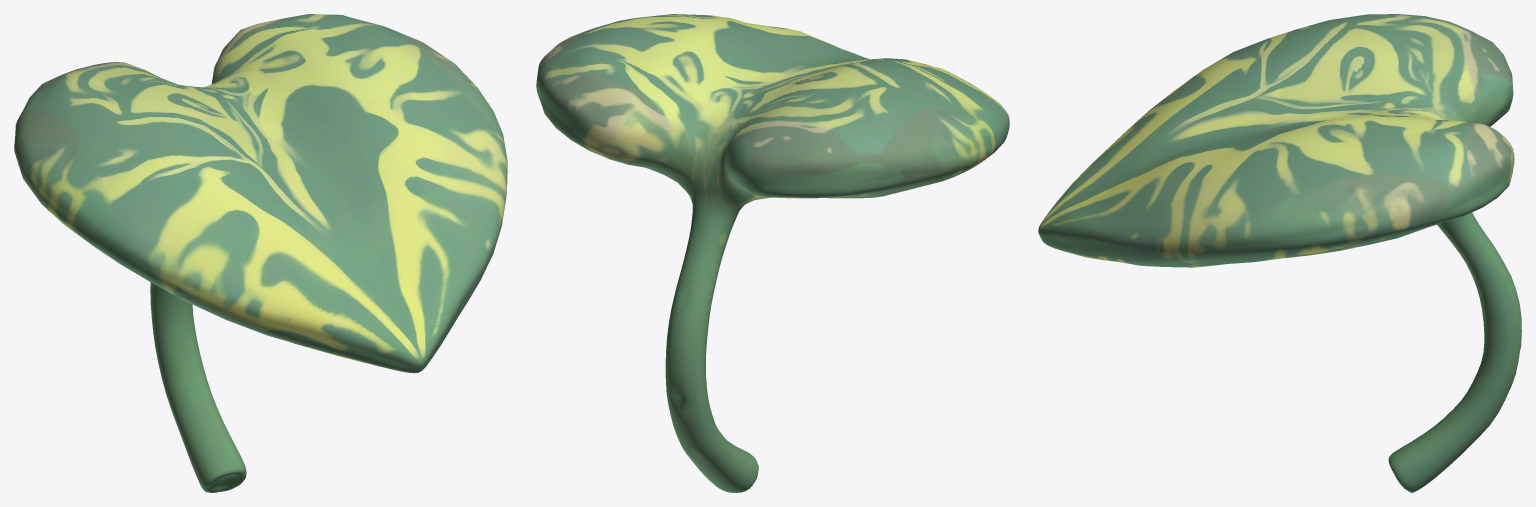
The model's file is pothos_marble_greenyellow.glb.
3 views of the same model, side by side, from view 1: azimuth 30°, elevation 25°; view 2: azimuth 150°, elevation 25°; view 3: azimuth 270°, elevation 25° (orthographic). The views are drawn at different scales.
Size of the model in its own units: 1.93 by 1.86 by 2.
1 material, 1 textured.
